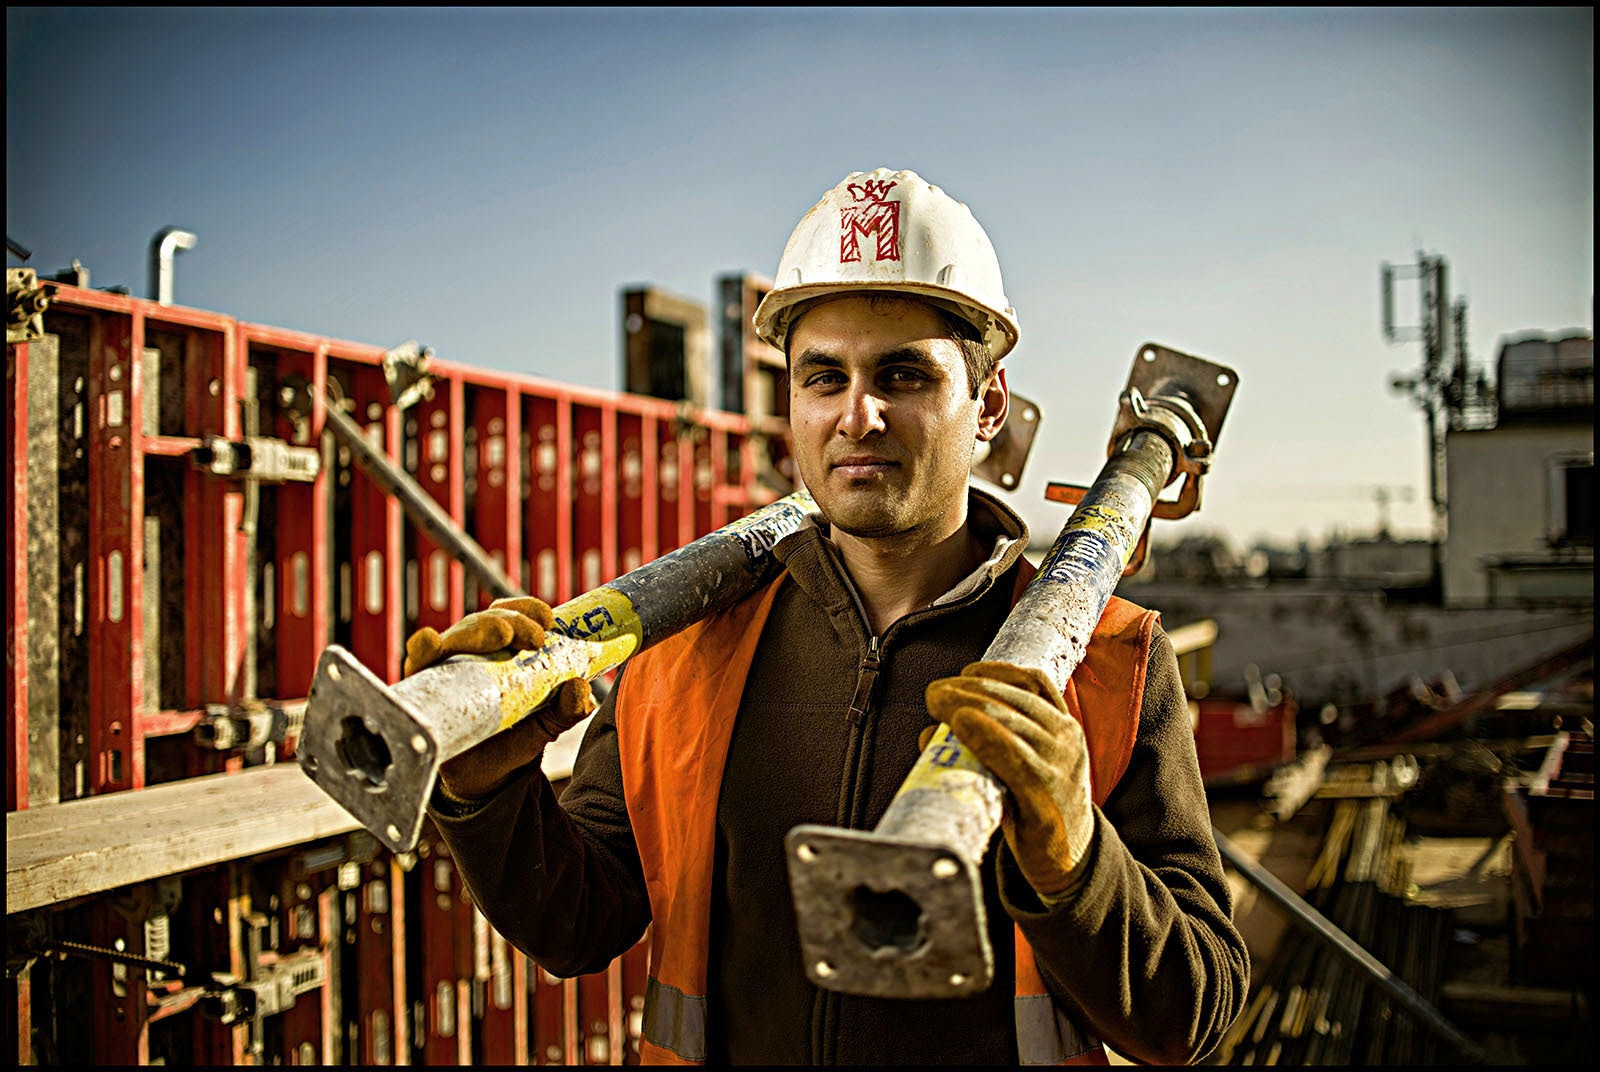white: (757, 165, 1014, 535)
